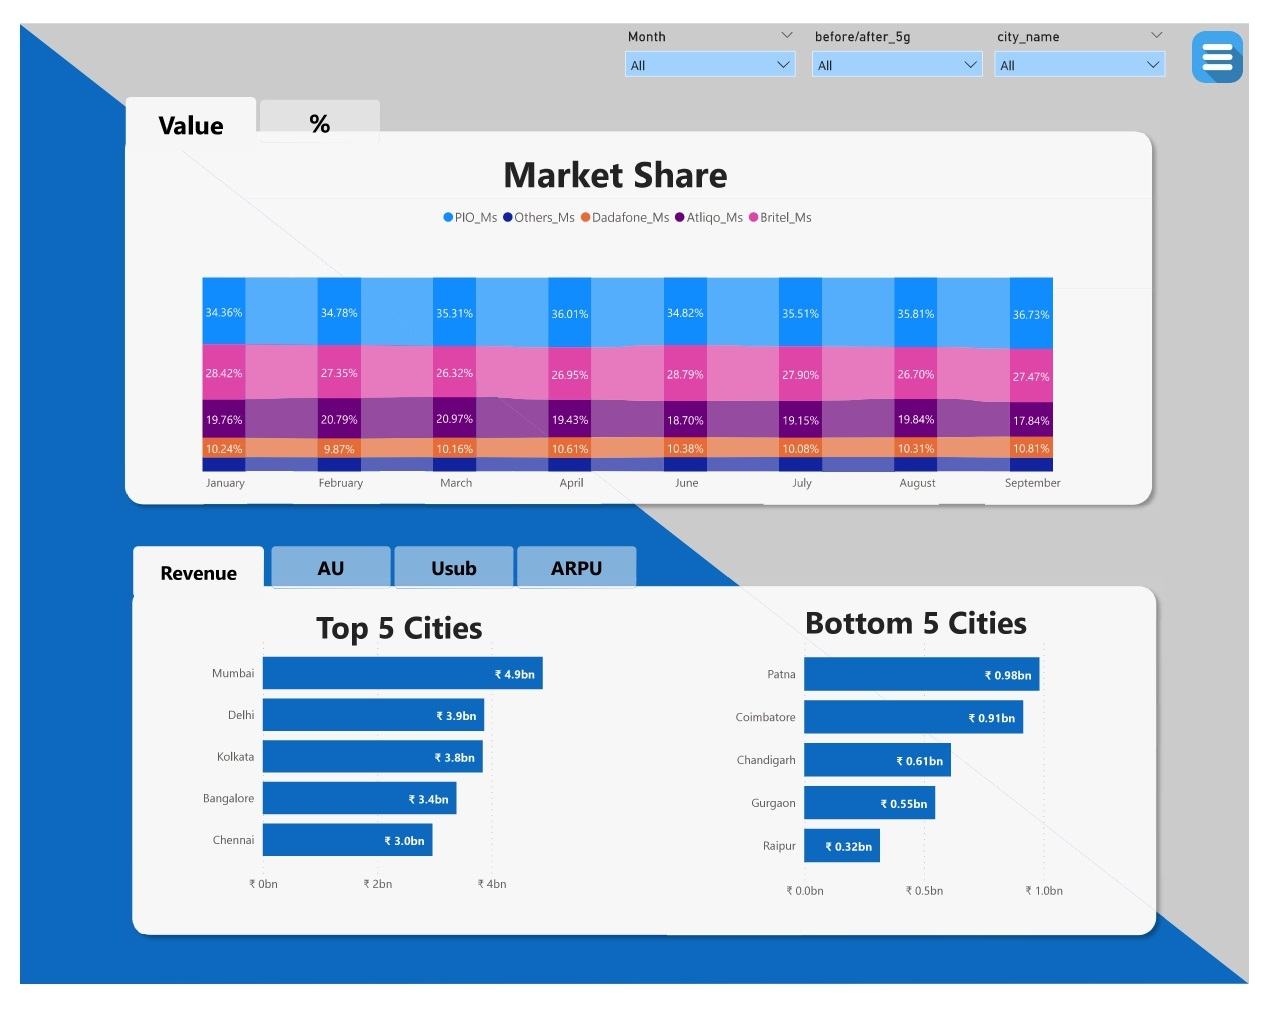

The page's visual inventory and layout, read from the dashboard file:
{"tool":"powerbi","page":{"name":"Market","canvas":[1280,1000],"ordinal":1},"visuals":[{"type":"group","id":"g1","title":"Group 1","box":[0,0,1280,1000],"z":0},{"type":"shape","box":[0,0,1280,1000],"z":0,"group":"g1"},{"type":"shape","box":[100,102.1,1087.5,407.5],"z":0,"group":"g2"},{"type":"shape","box":[108,576,1084,382],"z":0,"group":"g3"},{"type":"shape","box":[0,0,1280,1000],"z":1000,"group":"g1"},{"type":"group","id":"g2","title":"MArket_share_value","box":[100,76.5,1087.5,433.1],"z":1000},{"type":"actionButton","box":[110,76.5,135.7,55.7],"z":1000,"group":"g2"},{"type":"actionButton","box":[518,544,124,44],"z":1000,"group":"g3"},{"type":"actionButton","box":[250,79,125,45],"z":2000,"group":"g2"},{"type":"actionButton","box":[262,544,124,44],"z":2000,"group":"g3"},{"type":"ribbonChart","fields":{"Category":["dim_date.date.Variation.Date Hierarchy.Month"],"Y":["Measrue_table.PIO_Ms","Measrue_table.Others_Ms","Measrue_table.Dadafone_Ms","Measrue_table.Atliqo_Ms","Measrue_table.Britel_Ms"]},"box":[136.7,181.9,995,315],"z":3000,"group":"g2"},{"type":"group","id":"g3","title":"Revenue","box":[108,544,1084,414],"z":3000},{"type":"actionButton","box":[118,544,136,54],"z":3000,"group":"g3"},{"type":"actionButton","box":[390,544,124,44],"z":4000,"group":"g3"},{"type":"clusteredBarChart","title":"Top_Market_bar","fields":{"Category":["dim_cities.city_name"],"Y":["Measrue_table.Total_Revenue"]},"box":[179.5,628.6,435,285],"z":5000,"group":"g3"},{"type":"clusteredBarChart","title":"Bottom_markte_bar","fields":{"Category":["dim_cities.city_name"],"Y":["Measrue_table.Total_Revenue"]},"box":[734.5,628.6,400,292.5],"z":6000,"group":"g3"},{"type":"slicer","fields":{"Values":["dim_date.before/after_5g"]},"box":[815,0,197.5,77.5],"z":7000},{"type":"slicer","fields":{"Values":["dim_date.date.Variation.Date Hierarchy.Month"]},"box":[620,0,197.5,77.5],"z":8000},{"type":"slicer","fields":{"Values":["dim_cities.city_name"]},"box":[1005,0,197.5,77.5],"z":9000},{"type":"textbox","box":[470,125,300,77.5],"z":10000},{"type":"textbox","box":[245,600,300,77.5],"z":11000},{"type":"textbox","box":[782.5,595,300,77.5],"z":12000},{"type":"image","box":[1215.9,0,63.5,68.3],"z":15000}]}

Visuals, with their boxes on the page's 1280x1000 design canvas (x1, y1, x2, y2). These are canvas units, not pixel positions in the 1272x1009 screenshot, which may show the page scaled, cropped or inside an application window:
"Group 1" group: rect(0, 0, 1280, 1000)
shape: rect(0, 0, 1280, 1000)
shape: rect(100, 102, 1188, 510)
shape: rect(108, 576, 1192, 958)
shape: rect(0, 0, 1280, 1000)
"MArket_share_value" group: rect(100, 76, 1188, 510)
actionButton: rect(110, 76, 246, 132)
actionButton: rect(518, 544, 642, 588)
actionButton: rect(250, 79, 375, 124)
actionButton: rect(262, 544, 386, 588)
ribbonChart - dim_date.date.Variation.Date Hierarchy.Month x Measrue_table.PIO_Ms: rect(137, 182, 1132, 497)
"Revenue" group: rect(108, 544, 1192, 958)
actionButton: rect(118, 544, 254, 598)
actionButton: rect(390, 544, 514, 588)
"Top_Market_bar" clusteredBarChart: rect(180, 629, 614, 914)
"Bottom_markte_bar" clusteredBarChart: rect(734, 629, 1134, 921)
slicer - dim_date.before/after_5g: rect(815, 0, 1012, 78)
slicer - dim_date.date.Variation.Date Hierarchy.Month: rect(620, 0, 818, 78)
slicer - dim_cities.city_name: rect(1005, 0, 1202, 78)
textbox: rect(470, 125, 770, 202)
textbox: rect(245, 600, 545, 678)
textbox: rect(782, 595, 1082, 672)
image: rect(1216, 0, 1279, 68)
